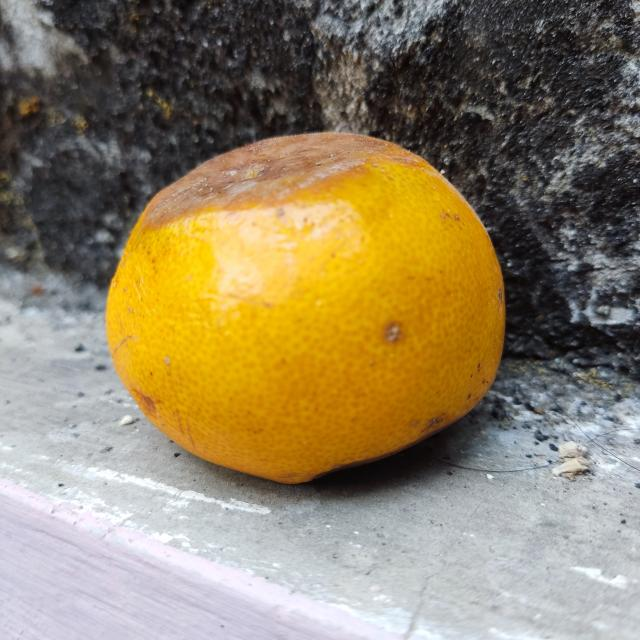orange: (103, 129, 508, 485)
